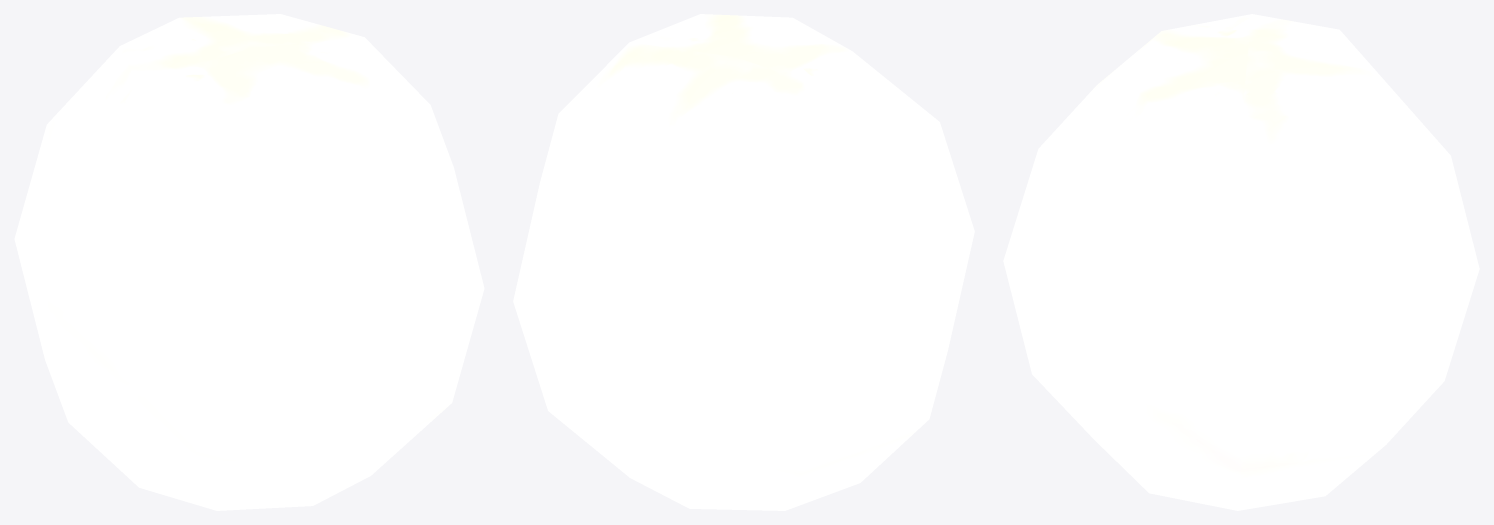
3 renders of one model, left to right at view 1: azimuth 30°, elevation 25°; view 2: azimuth 150°, elevation 25°; view 3: azimuth 270°, elevation 25°, orthographic.
Visible parts, largest first — view 1: SM_Tomato_Drop_01_LOD0; view 2: SM_Tomato_Drop_01_LOD0; view 3: SM_Tomato_Drop_01_LOD0.
Part boxes in pixels (left/top/right/bottom): SM_Tomato_Drop_01_LOD0: left=14, top=14, right=484, bottom=510; SM_Tomato_Drop_01_LOD0: left=513, top=14, right=974, bottom=510; SM_Tomato_Drop_01_LOD0: left=1003, top=14, right=1479, bottom=510.
Size of the model in its own units: 0.1535 by 0.1487 by 0.1535.
Materials: 1 (1 with a texture image).
